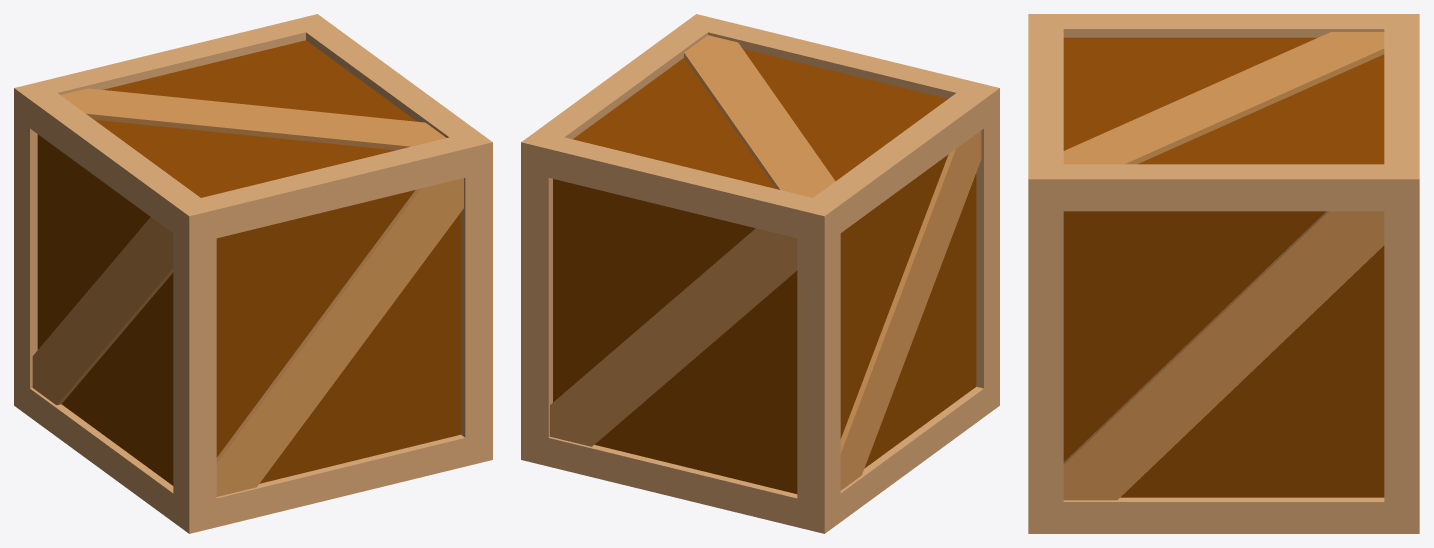
File: Crate.fbx
The picture shows the model from 3 angles, left to right: view 1: azimuth 30°, elevation 25°; view 2: azimuth 150°, elevation 25°; view 3: azimuth 270°, elevation 25°; orthographic projection. The views are drawn at different scales.
Visible parts, largest first — view 1: Crate; view 2: Crate; view 3: Crate.
Boxes of the visible parts, x1,y1,x2,y2 form: Crate: [14, 14, 492, 533]; Crate: [521, 14, 999, 533]; Crate: [1028, 14, 1419, 533].
Size of the model in its own units: 1000 by 1000 by 1000.
